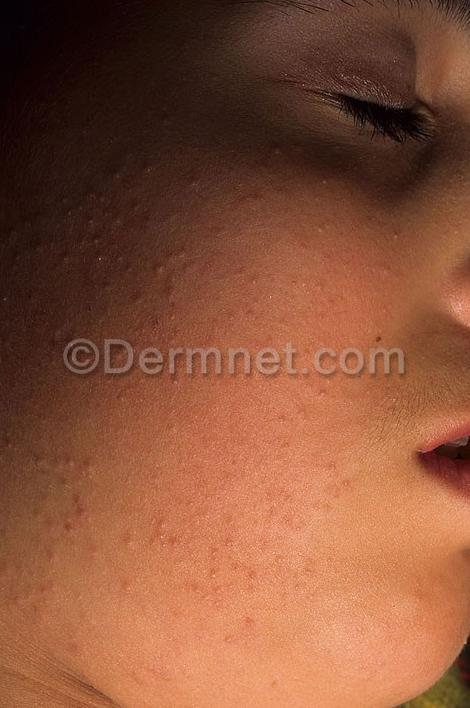edema 1: (7, 99, 311, 639)
